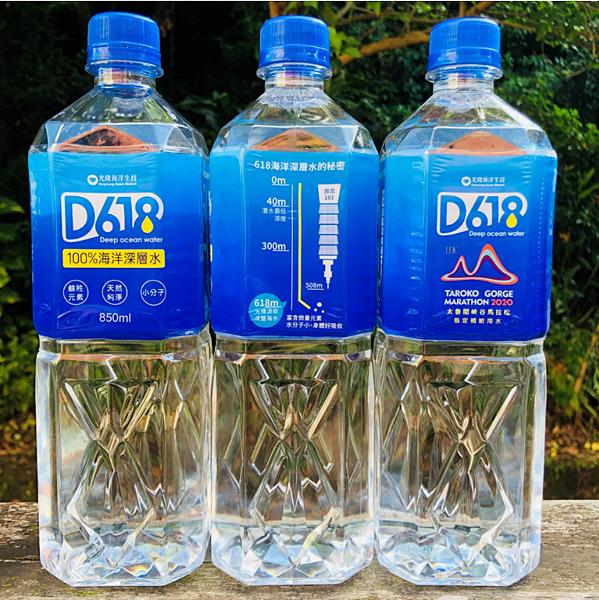plastic: (28, 12, 212, 585), (372, 17, 557, 585), (211, 16, 378, 584)
